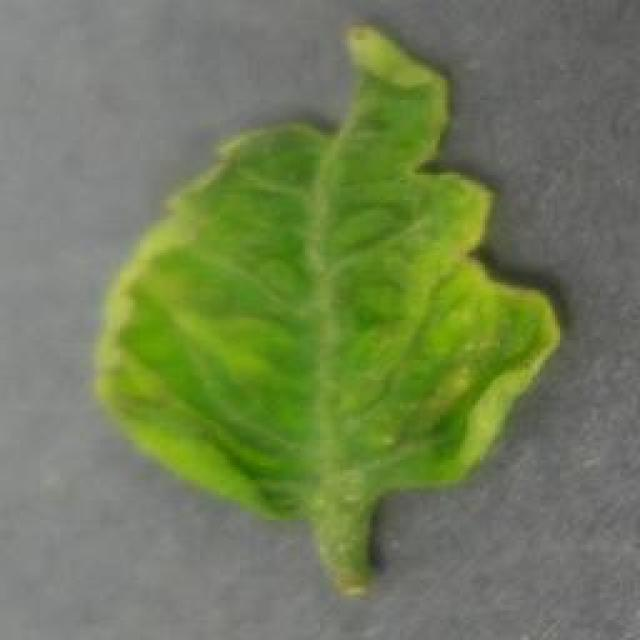Tomato yellow virus leaf: (95, 26, 565, 522)
